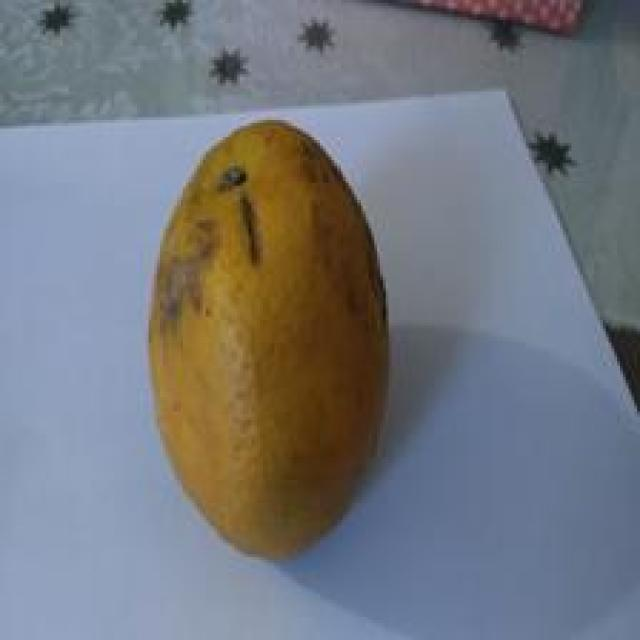overripe: (139, 118, 400, 564)
